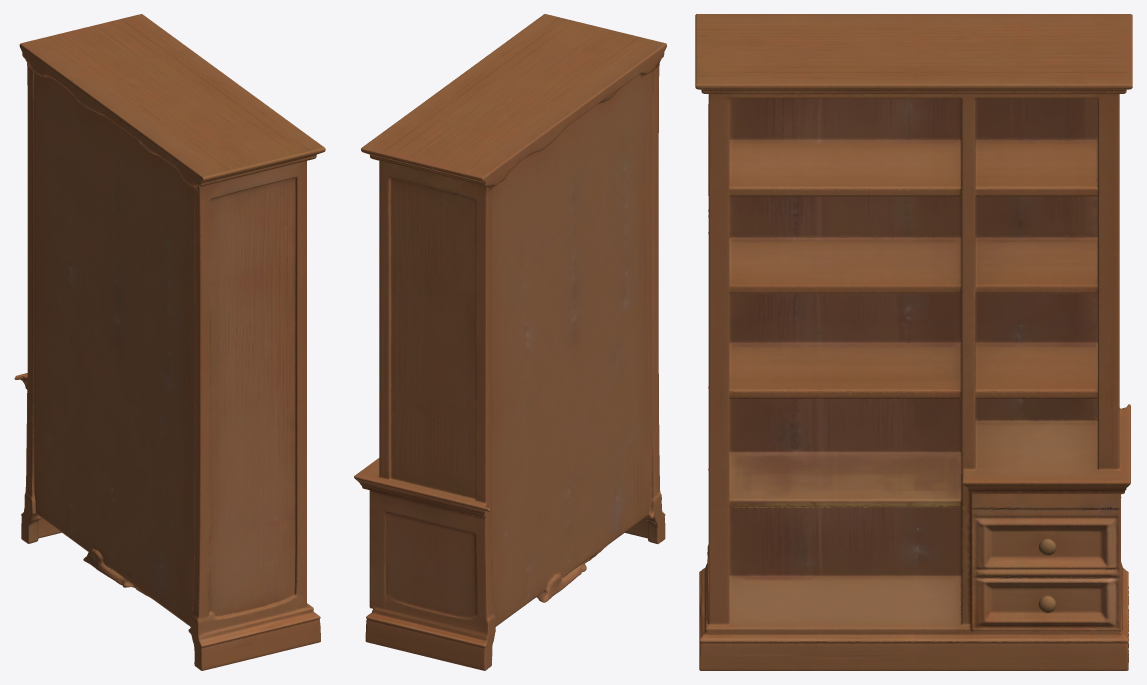
The model's file is detailed_realistic_model_bookcase_01.glb.
3 renders of one model, left to right at view 1: azimuth 30°, elevation 25°; view 2: azimuth 150°, elevation 25°; view 3: azimuth 270°, elevation 25°, orthographic. The views are drawn at different scales.
Parts seen in each view (by area): view 1: tripo_node_a71cb409-602f-428b-a8bf-5b400c78893c; view 2: tripo_node_a71cb409-602f-428b-a8bf-5b400c78893c; view 3: tripo_node_a71cb409-602f-428b-a8bf-5b400c78893c.
Part boxes in pixels (left/top/right/bottom): tripo_node_a71cb409-602f-428b-a8bf-5b400c78893c: left=14, top=14, right=325, bottom=670; tripo_node_a71cb409-602f-428b-a8bf-5b400c78893c: left=354, top=14, right=666, bottom=670; tripo_node_a71cb409-602f-428b-a8bf-5b400c78893c: left=695, top=14, right=1132, bottom=670.
Bounding box in the file's own units: 0.2891 × 1 × 0.674.
Materials: 1 (1 with a texture image).
